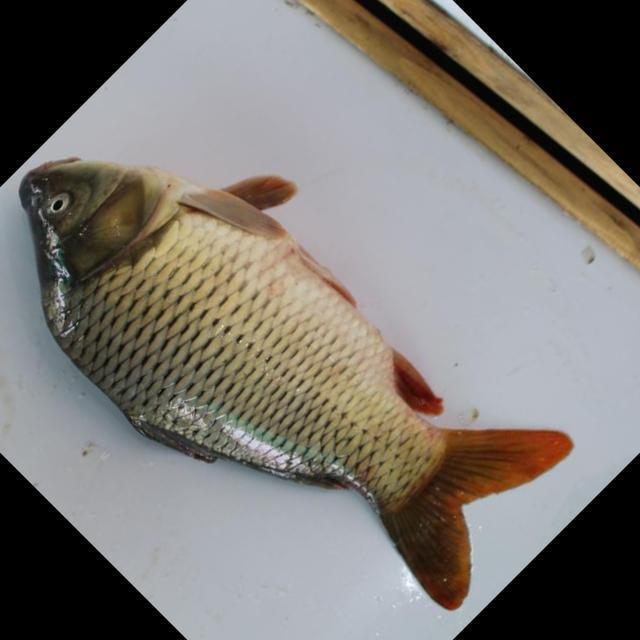Grass Carp: (21, 153, 577, 612)
